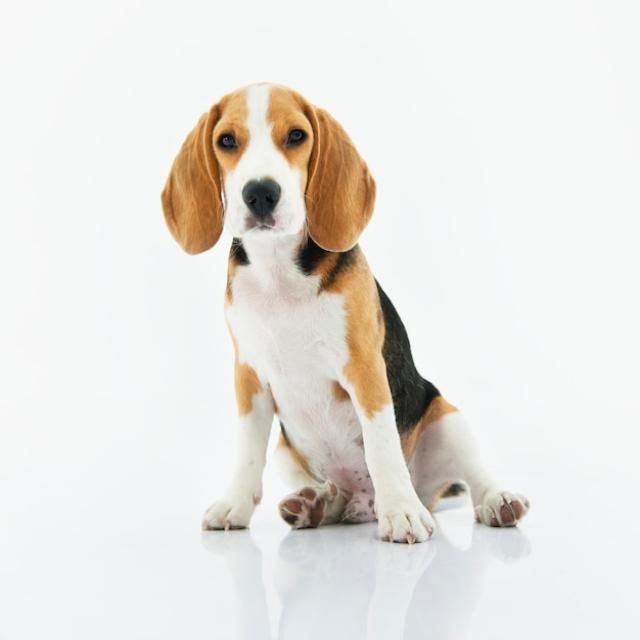Dog: (162, 80, 532, 543)
